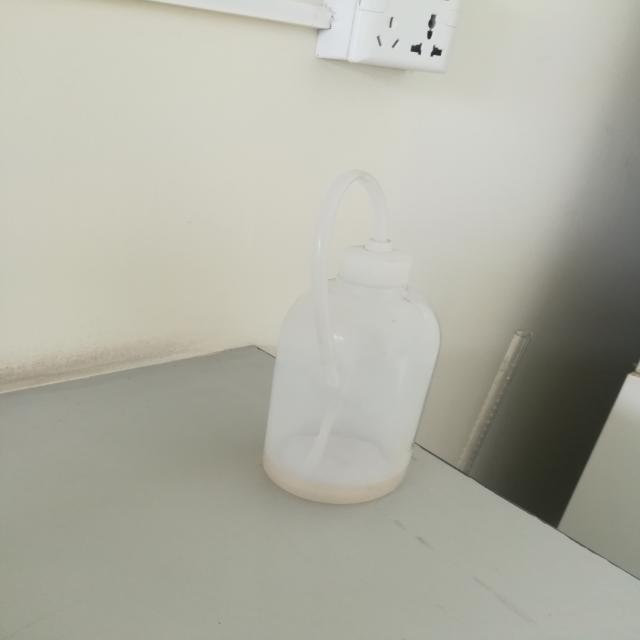Wash_Bottle: (235, 152, 478, 518)
